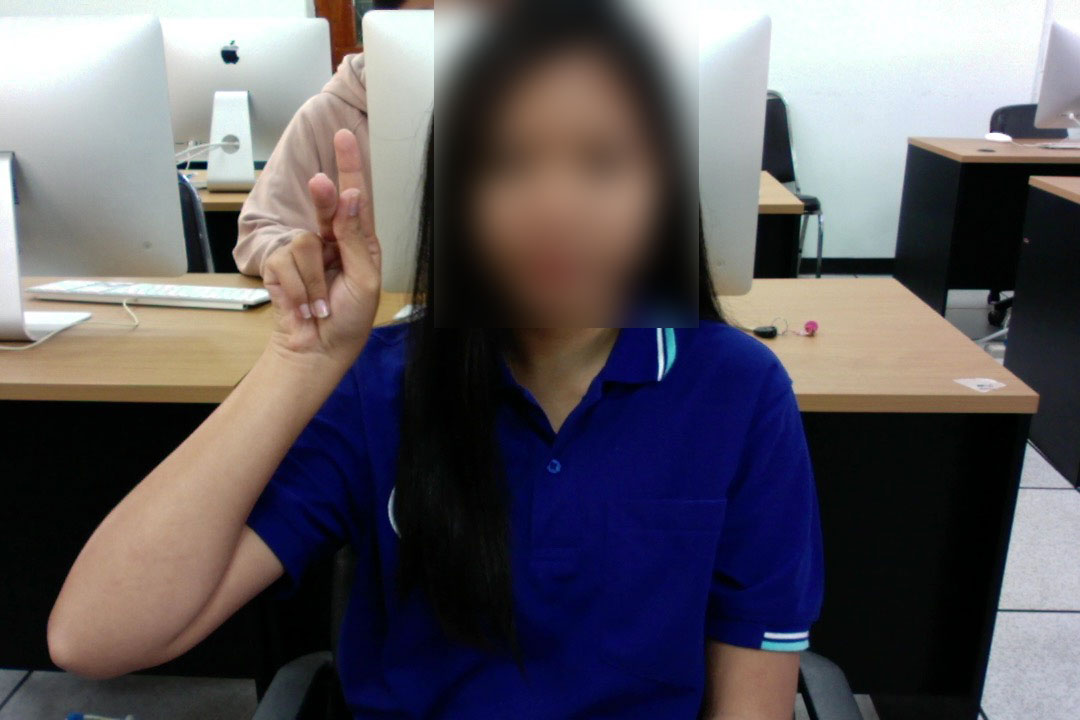ko: (253, 125, 385, 357)
